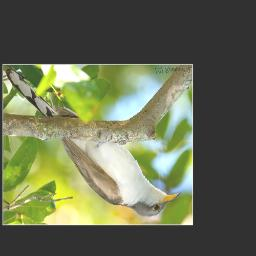Cuckoo: (3, 66, 185, 219)
